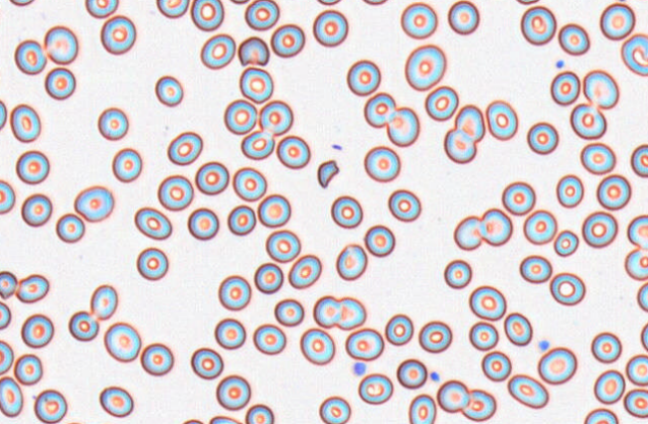PLT: (353, 362, 368, 376), (537, 339, 550, 353), (428, 371, 441, 382), (556, 59, 566, 69)
RBC: (404, 43, 446, 91), (312, 294, 366, 330), (537, 346, 577, 385), (103, 321, 141, 362), (73, 185, 114, 222), (582, 69, 619, 109), (507, 373, 548, 409), (520, 5, 556, 45), (100, 14, 136, 54), (400, 1, 437, 39), (581, 210, 618, 248), (385, 106, 419, 147), (569, 102, 606, 139), (363, 145, 400, 182), (299, 327, 335, 365), (599, 2, 635, 40), (312, 9, 348, 47), (43, 25, 78, 64), (344, 327, 384, 361), (485, 99, 518, 140), (157, 174, 193, 211), (468, 285, 506, 320), (478, 207, 512, 246), (215, 374, 251, 410), (238, 66, 273, 103), (346, 59, 381, 96), (596, 173, 631, 210), (134, 206, 172, 240), (258, 99, 293, 135), (522, 209, 557, 245), (200, 33, 235, 69), (424, 85, 458, 121), (223, 98, 257, 134), (287, 253, 321, 289), (549, 271, 585, 305), (363, 91, 396, 128), (9, 103, 40, 142), (620, 33, 648, 76), (232, 166, 266, 201), (276, 134, 310, 169), (33, 388, 67, 423), (195, 160, 229, 195), (15, 149, 49, 184), (270, 23, 305, 57), (167, 131, 202, 165), (265, 229, 301, 262), (218, 274, 251, 310), (335, 243, 367, 280), (454, 104, 485, 142), (501, 181, 535, 215), (387, 188, 421, 222), (257, 193, 291, 227), (443, 128, 476, 163), (461, 388, 496, 421), (20, 313, 53, 348), (579, 142, 615, 174), (357, 372, 393, 404), (436, 379, 469, 413), (330, 194, 363, 228), (418, 320, 452, 353), (140, 342, 173, 376), (593, 369, 625, 404), (447, 0, 479, 35), (14, 39, 46, 74), (98, 385, 133, 417), (252, 323, 286, 355), (136, 246, 168, 280), (111, 147, 142, 182), (89, 283, 118, 320), (558, 22, 590, 55), (526, 121, 558, 154), (363, 224, 395, 257), (190, 347, 223, 379), (187, 207, 219, 240), (20, 193, 52, 226), (240, 129, 274, 160), (190, 0, 224, 31), (44, 66, 75, 100), (97, 106, 128, 140), (550, 70, 580, 105), (244, 0, 279, 30), (214, 317, 246, 349), (590, 331, 622, 363), (15, 273, 49, 303), (453, 215, 482, 250), (555, 173, 584, 208), (503, 312, 532, 346), (0, 375, 23, 417), (396, 358, 427, 389), (68, 310, 99, 341), (480, 350, 511, 381), (519, 254, 552, 283), (253, 262, 283, 293), (55, 212, 85, 243), (13, 353, 42, 385), (384, 313, 413, 345), (318, 395, 351, 423), (468, 321, 498, 351), (443, 258, 472, 289), (227, 204, 256, 235), (154, 75, 183, 106), (408, 393, 436, 423), (274, 298, 304, 326), (624, 247, 648, 280), (626, 214, 648, 249), (625, 353, 648, 386), (623, 388, 648, 418), (553, 229, 579, 257), (244, 403, 274, 424), (155, 0, 189, 18), (84, 0, 118, 18), (630, 143, 647, 177), (583, 407, 618, 423), (0, 179, 15, 214), (0, 270, 17, 299), (0, 339, 13, 375), (636, 280, 648, 312), (0, 300, 11, 330), (208, 415, 243, 424), (640, 321, 648, 353), (0, 99, 7, 131), (8, 0, 35, 6), (359, 0, 390, 5), (179, 418, 204, 424), (513, 0, 542, 5), (315, 0, 343, 5), (227, 0, 251, 4), (60, 421, 86, 424), (631, 0, 648, 2)
Schistocyte: (238, 37, 269, 68), (316, 160, 340, 190)
